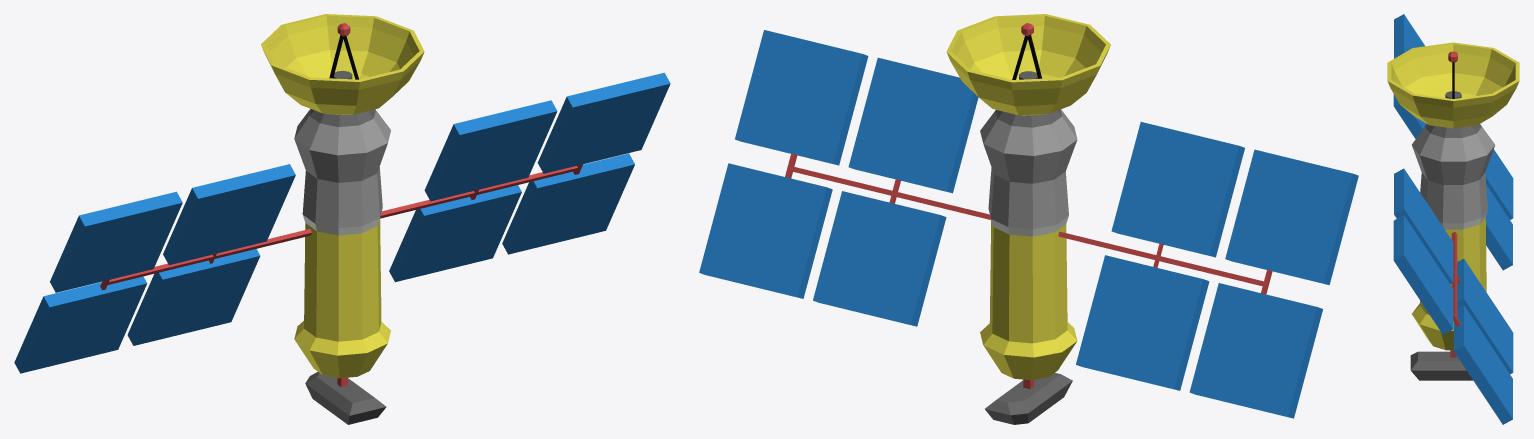
Rendered from satellite_model_brightblue.fbx.
3 views of the same model, side by side, from view 1: azimuth 30°, elevation 25°; view 2: azimuth 150°, elevation 25°; view 3: azimuth 270°, elevation 25° (orthographic). The views are drawn at different scales.
Parts seen in each view (by area): view 1: satellite; view 2: satellite; view 3: satellite.
Part boxes in pixels (<box>): satellite: <box>14,14,670,424</box>; satellite: <box>699,14,1358,424</box>; satellite: <box>1387,14,1519,424</box>.
Size of the model in its own units: 13.64 by 8.5 by 3.16.
1 material, 1 textured.
